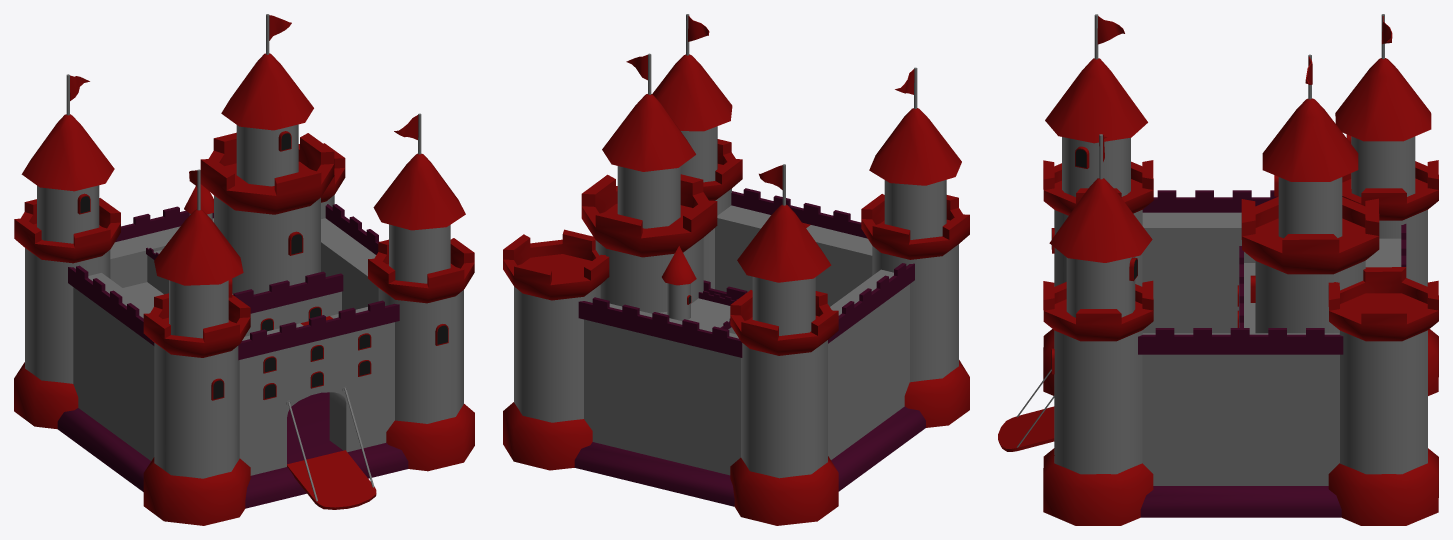
Rendered from Evil_Castle_Upgrade1_Stage1.fbx.
3 renders of one model, left to right at view 1: azimuth 30°, elevation 25°; view 2: azimuth 150°, elevation 25°; view 3: azimuth 270°, elevation 25°, orthographic. The views are drawn at different scales.
Visible parts, largest first — view 1: Evil_Castle_Upgrade1_Stage_1; view 2: Evil_Castle_Upgrade1_Stage_1; view 3: Evil_Castle_Upgrade1_Stage_1.
Boxes of the visible parts, left/top/right/bottom form: Evil_Castle_Upgrade1_Stage_1: left=14, top=14, right=474, bottom=525; Evil_Castle_Upgrade1_Stage_1: left=503, top=14, right=969, bottom=525; Evil_Castle_Upgrade1_Stage_1: left=998, top=14, right=1438, bottom=525.
Bounding box in the file's own units: 832 × 966 × 927.
Materials: 1 (1 with a texture image).
